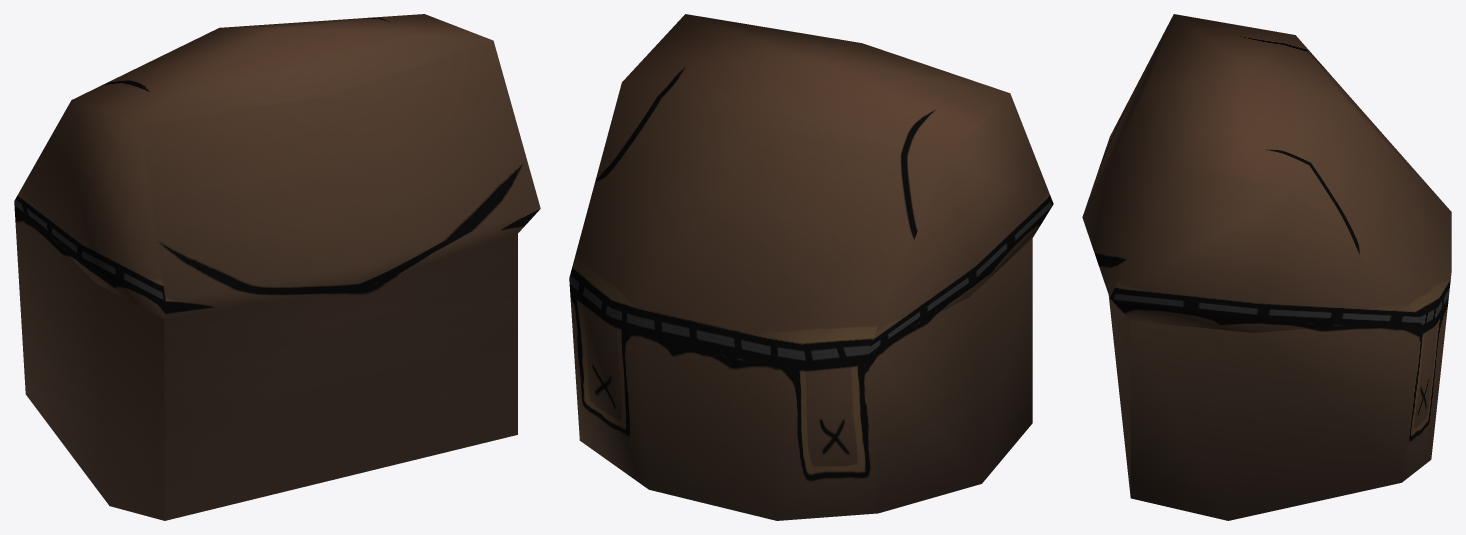
File: mod_mod_bp_pocket01.fbx
The picture shows the model from 3 angles, left to right: view 1: azimuth 30°, elevation 25°; view 2: azimuth 150°, elevation 25°; view 3: azimuth 270°, elevation 25°; orthographic projection. The views are drawn at different scales.
Visible parts, largest first — view 1: mod_mod_bp_pocket01; view 2: mod_mod_bp_pocket01; view 3: mod_mod_bp_pocket01.
Boxes of the visible parts, bbox=[...] form: mod_mod_bp_pocket01: bbox=[14, 14, 540, 520]; mod_mod_bp_pocket01: bbox=[569, 14, 1053, 520]; mod_mod_bp_pocket01: bbox=[1082, 14, 1451, 520].
Size of the model in its own units: 15.71 by 17.78 by 15.17.
